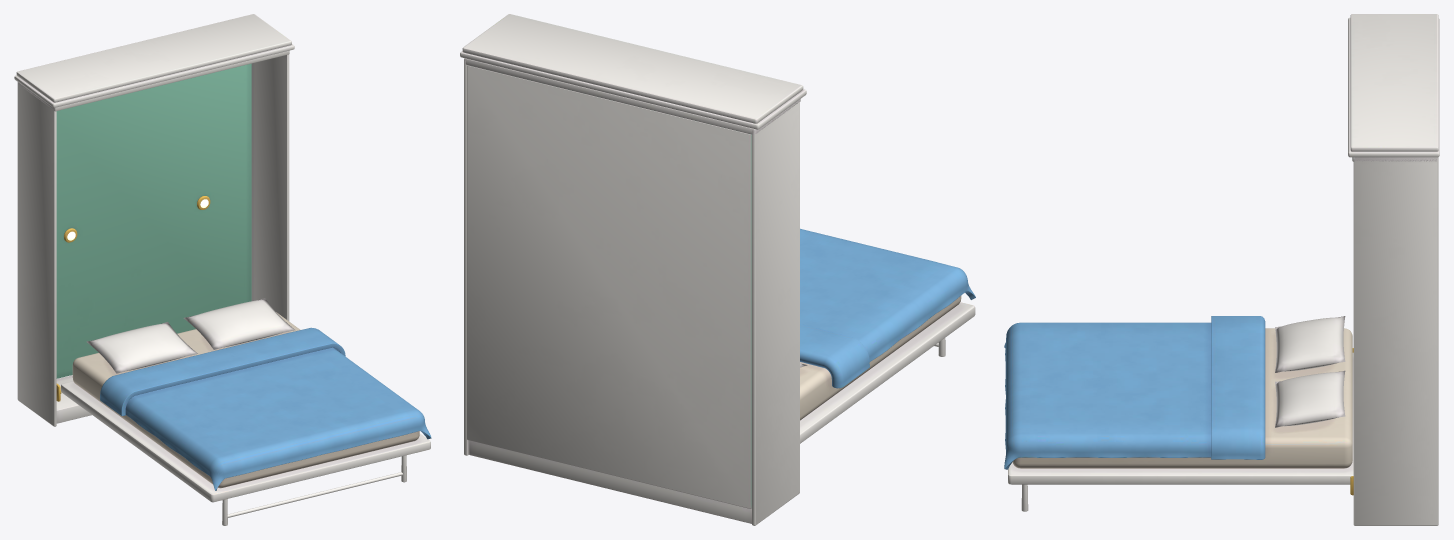
The model's file is murphy-bed.glb.
3 renders of one model, left to right at view 1: azimuth 30°, elevation 25°; view 2: azimuth 150°, elevation 25°; view 3: azimuth 270°, elevation 25°, orthographic. The views are drawn at different scales.
Parts seen in each view (by area): view 1: murphy-bed_body, murphy-bed_fold, murphy-bed_fold_legbar; view 2: murphy-bed_body, murphy-bed_fold; view 3: murphy-bed_fold, murphy-bed_body.
Boxes of the visible parts, <box> form: murphy-bed_body: <box>14,14,294,426</box>; murphy-bed_fold: <box>61,298,431,502</box>; murphy-bed_fold_legbar: <box>222,455,406,525</box>; murphy-bed_body: <box>460,14,806,525</box>; murphy-bed_fold: <box>800,228,975,443</box>; murphy-bed_fold: <box>1004,316,1353,484</box>; murphy-bed_body: <box>1348,14,1439,525</box>.
Size of the model in its own units: 1.89 by 2.46 by 2.56.
Materials: 4 (2 with a texture image).
